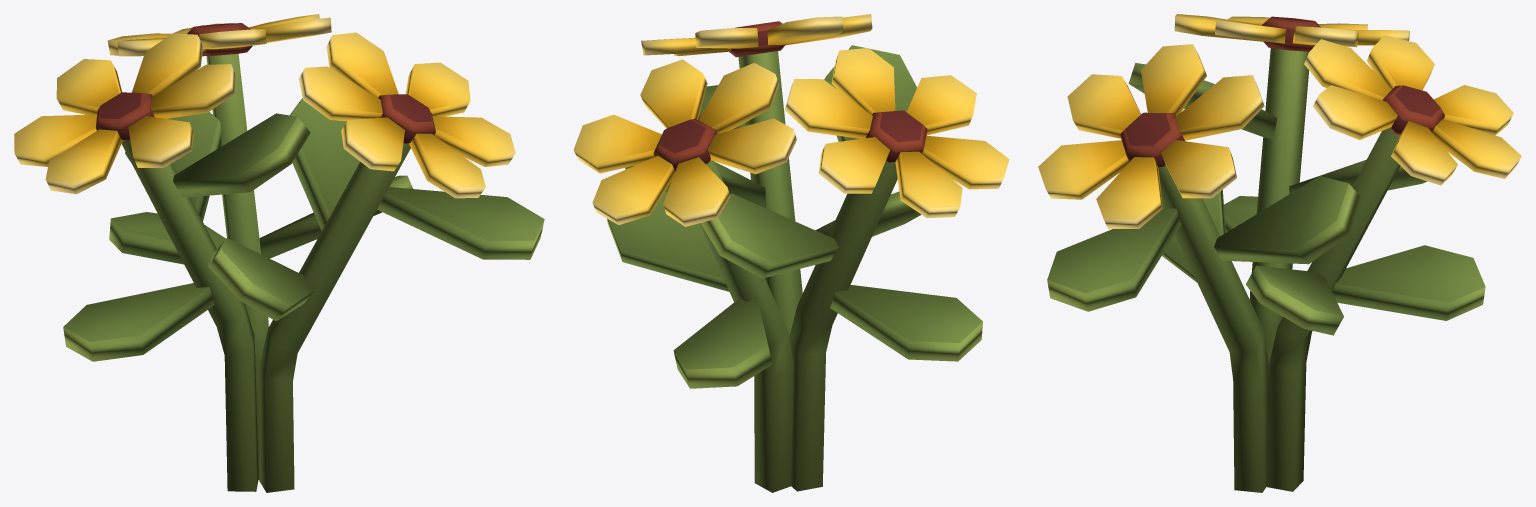
Rendered from flower_bunch_yellow.fbx.
The picture shows the model from 3 angles, left to right: view 1: azimuth 30°, elevation 25°; view 2: azimuth 150°, elevation 25°; view 3: azimuth 270°, elevation 25°; orthographic projection.
Parts seen in each view (by area): view 1: flower_bunch_yellow; view 2: flower_bunch_yellow; view 3: flower_bunch_yellow.
Boxes of the visible parts, bbox=[...] form: flower_bunch_yellow: bbox=[14, 14, 544, 492]; flower_bunch_yellow: bbox=[573, 14, 1009, 492]; flower_bunch_yellow: bbox=[1038, 14, 1521, 492].
Bounding box in the file's own units: 82.07 × 83.97 × 83.37.
